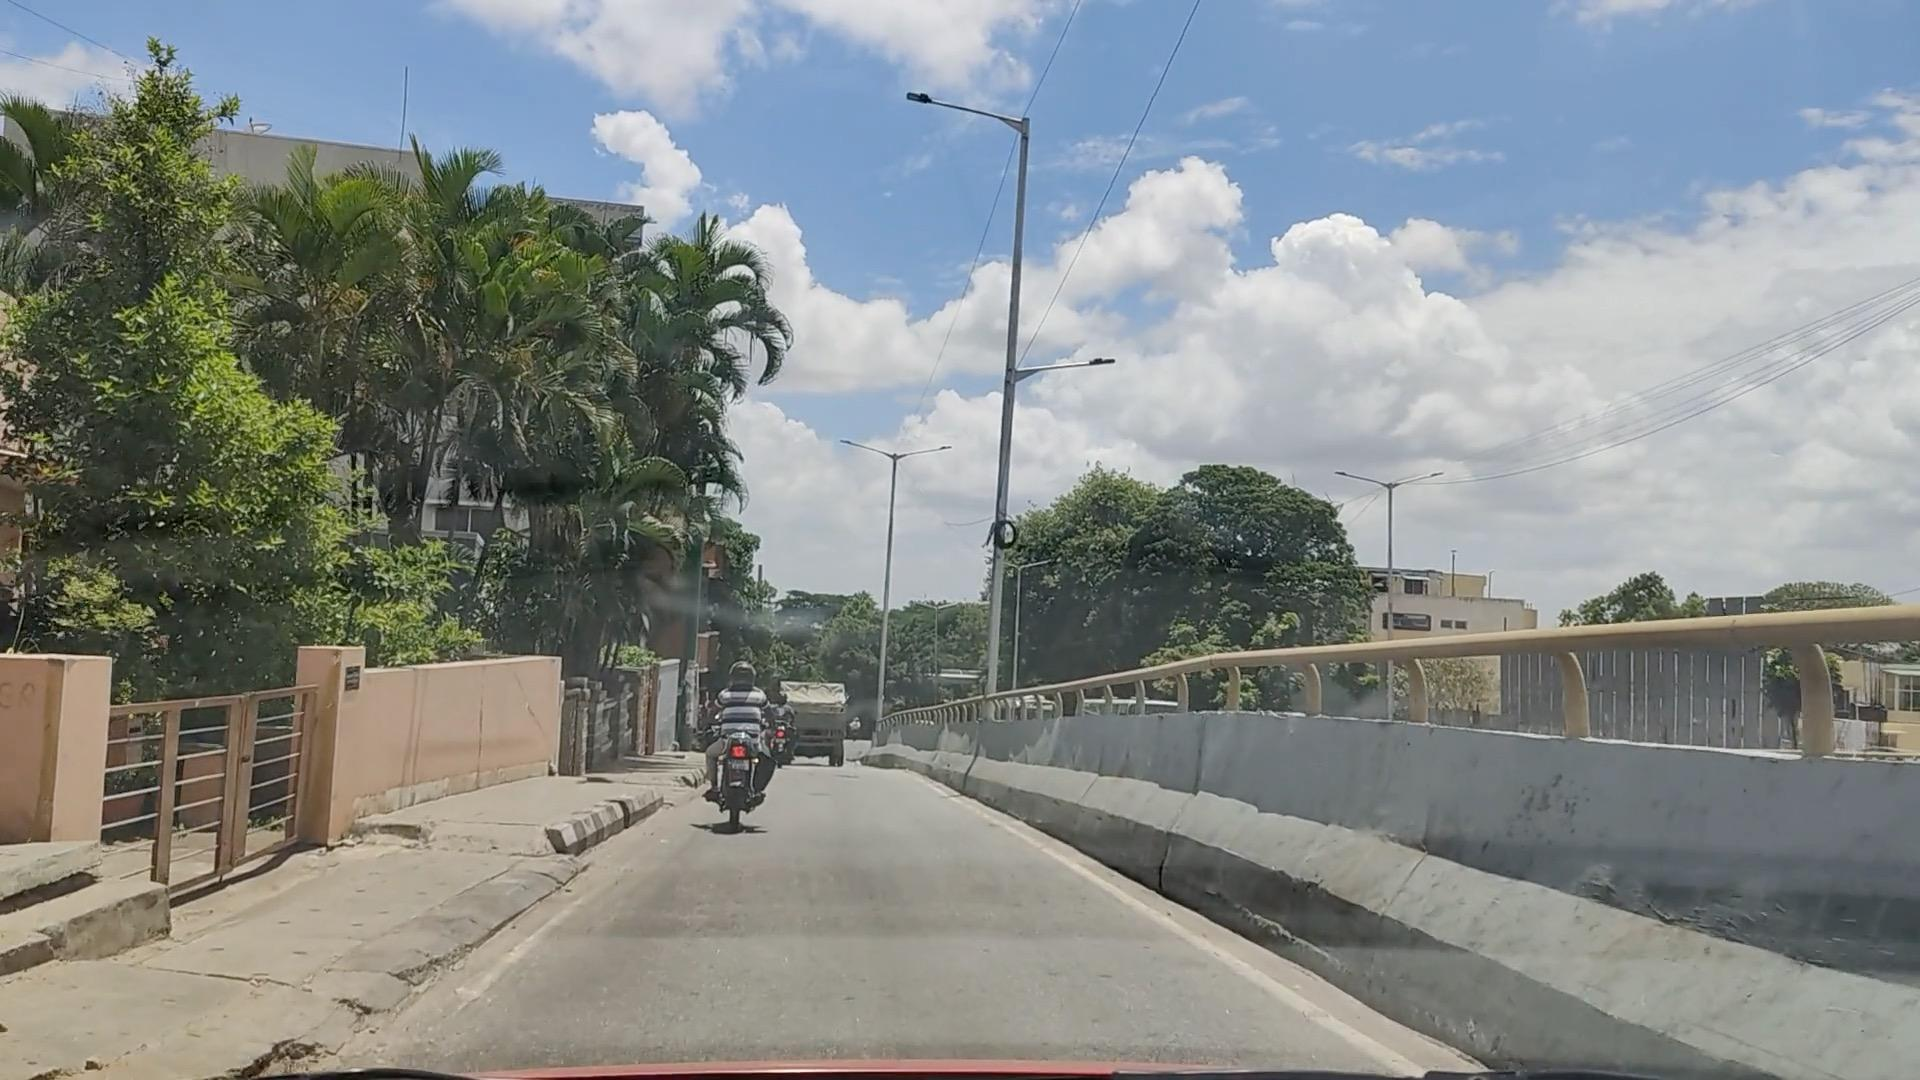LMV: (690, 650, 784, 842)
